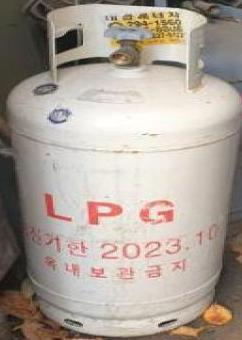cylinder: (1, 1, 242, 340)
